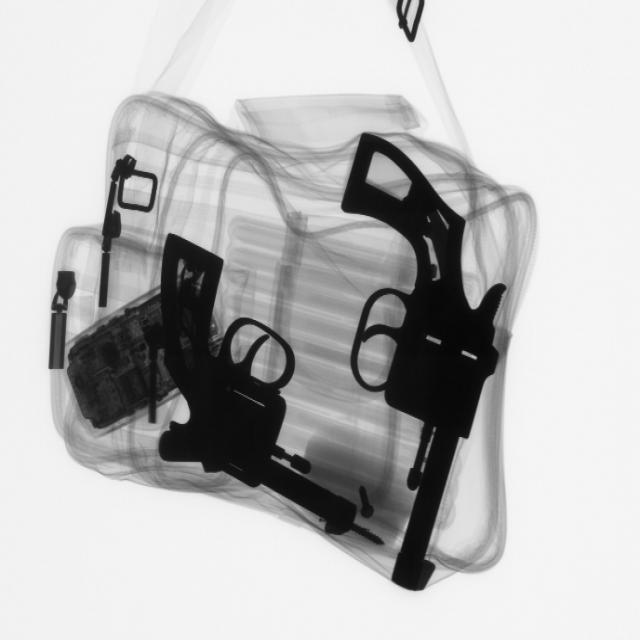GUN: (342, 125, 516, 592), (149, 228, 341, 541)
